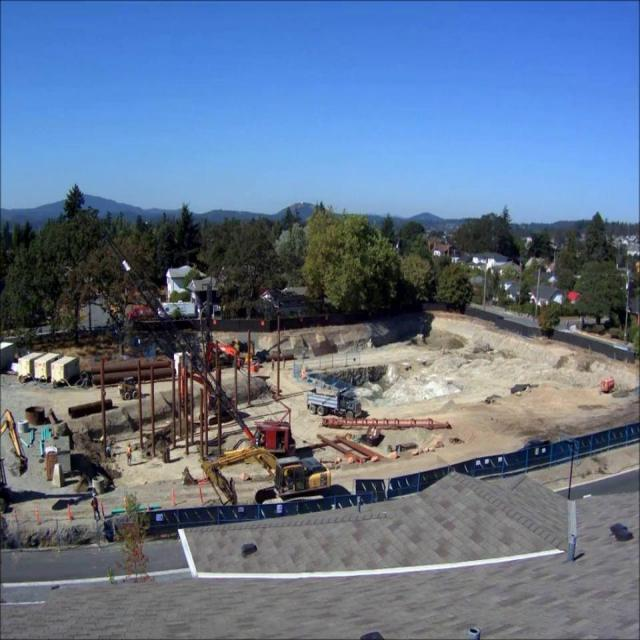Dump Truck: (198, 444, 331, 503), (0, 409, 28, 514), (305, 386, 362, 422)
Roller: (117, 373, 139, 401)
